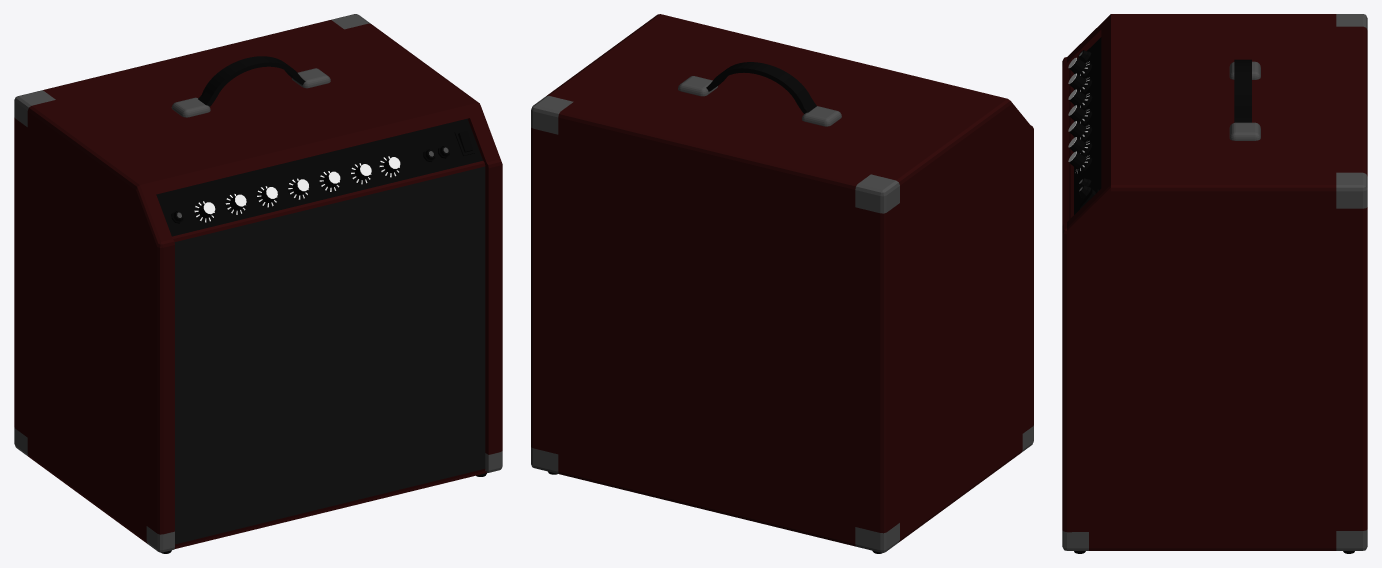
Rendered from Amp_1318.obj.
3 views of the same model, side by side, from view 1: azimuth 30°, elevation 25°; view 2: azimuth 150°, elevation 25°; view 3: azimuth 270°, elevation 25° (orthographic). The views are drawn at different scales.
Visible parts, largest first — view 1: Cylinder001; view 2: Cylinder001; view 3: Cylinder001.
Boxes of the visible parts, x1,y1,x2,y2 form: Cylinder001: [14, 14, 502, 553]; Cylinder001: [531, 14, 1033, 553]; Cylinder001: [1062, 14, 1367, 553].
Size of the model in its own units: 33.65 by 36.62 by 24.83.
